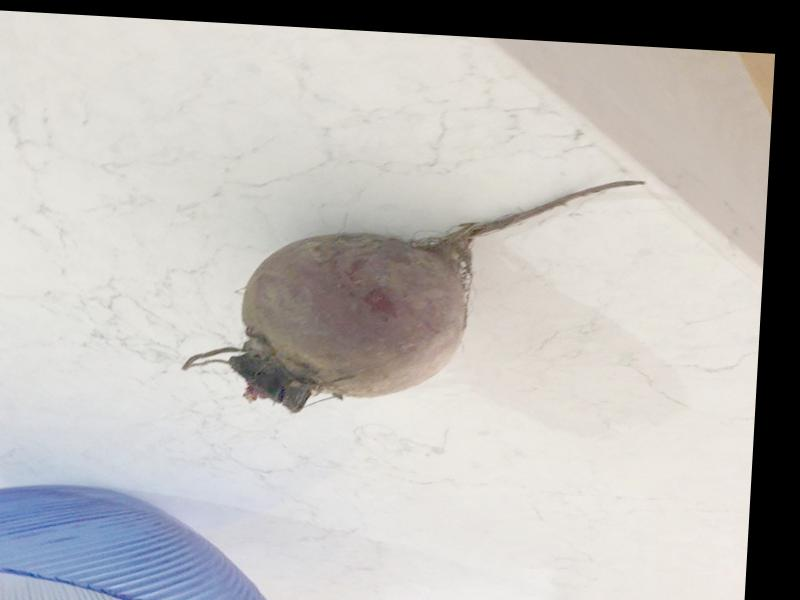Beet: (182, 154, 643, 430)
